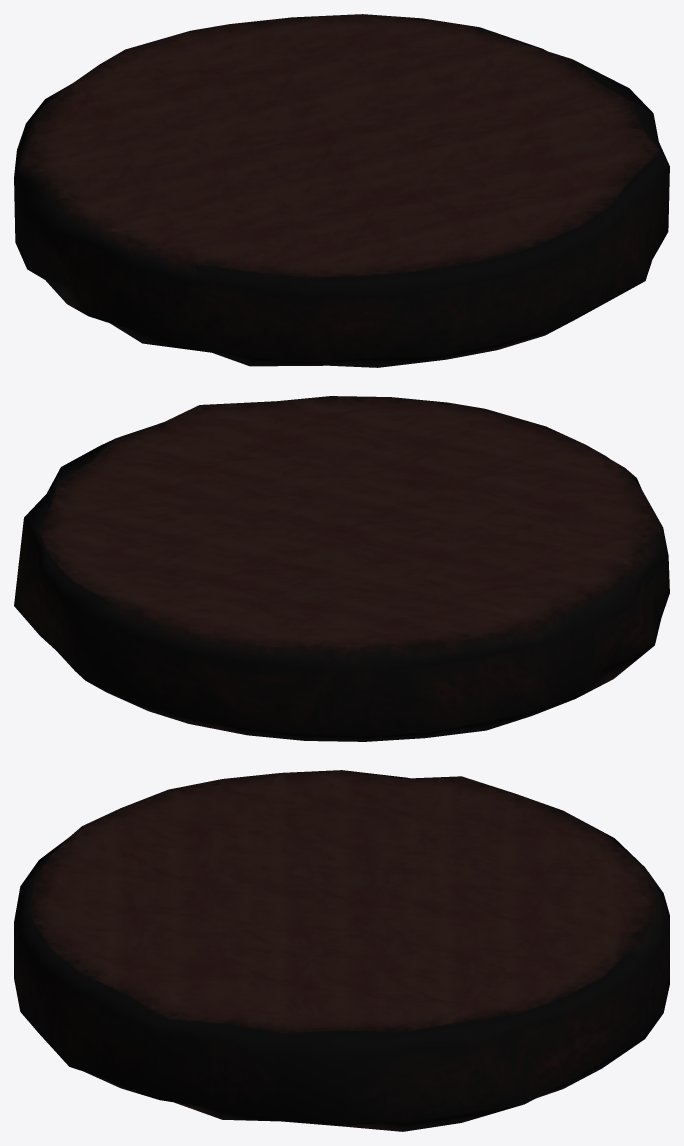
The model's file is MeatBurned.fbx.
3 renders of one model, top to bottom at view 1: azimuth 30°, elevation 25°; view 2: azimuth 150°, elevation 25°; view 3: azimuth 270°, elevation 25°, orthographic. The views are drawn at different scales.
Parts seen in each view (by area): view 1: burned meat patty; view 2: burned meat patty; view 3: burned meat patty.
Part boxes in pixels (<box>): burned meat patty: <box>14,14,669,367</box>; burned meat patty: <box>14,396,669,741</box>; burned meat patty: <box>14,770,669,1131</box>.
Bounding box in the file's own units: 22.36 × 3.39 × 21.59.
